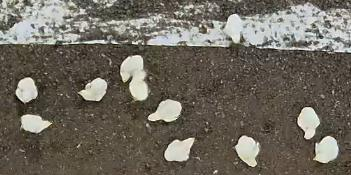chick: (233, 134, 259, 169), (148, 99, 182, 122), (164, 137, 195, 162), (297, 106, 320, 139), (78, 77, 108, 102), (313, 136, 339, 163), (119, 55, 144, 81), (15, 77, 39, 104), (129, 70, 149, 102), (20, 114, 52, 134)
